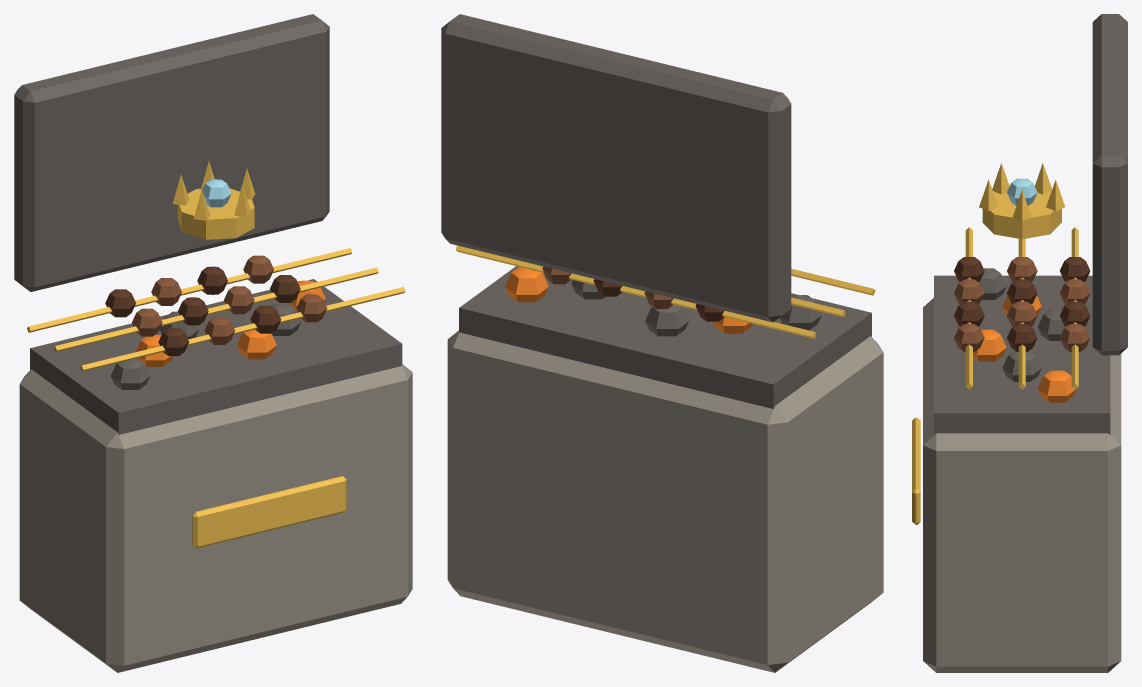
Rendered from PR_Station_Mangal_T3.fbx.
3 renders of one model, left to right at view 1: azimuth 30°, elevation 25°; view 2: azimuth 150°, elevation 25°; view 3: azimuth 270°, elevation 25°, orthographic. The views are drawn at different scales.
Parts seen in each view (by area): view 1: PR_Station_Mangal_T3; view 2: PR_Station_Mangal_T3; view 3: PR_Station_Mangal_T3.
Boxes of the visible parts, box(x1,y1,x2,y2) form: PR_Station_Mangal_T3: box(14, 14, 412, 672); PR_Station_Mangal_T3: box(441, 14, 883, 672); PR_Station_Mangal_T3: box(912, 14, 1127, 672).
Bounding box in the file's own units: 0.84 × 1.3 × 0.49.
Materials: 1 (1 with a texture image).
